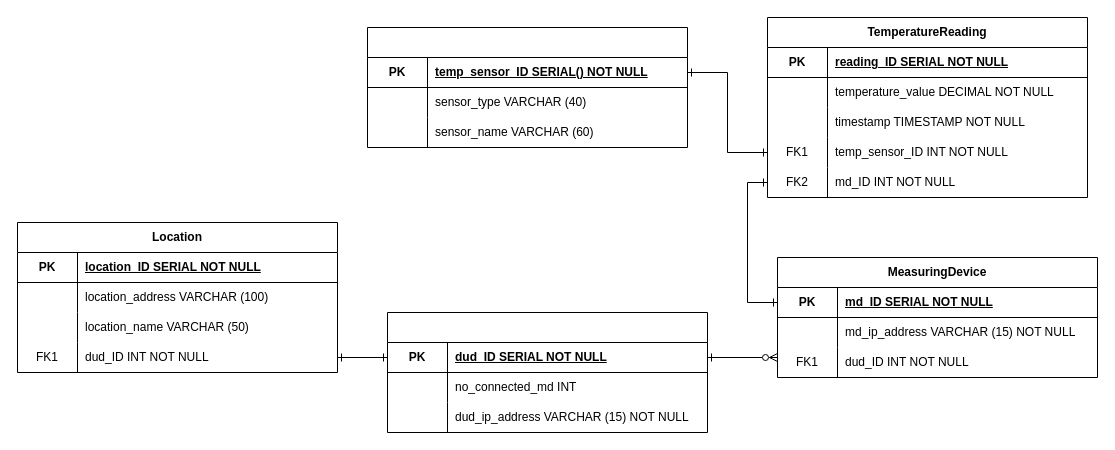
Image size: 1115x450. Some labels were removed from this diagram. Here are the shapes that lost their labels. From the top down, the box of each, then its label:
(366, 26, 688, 148): TemepratureSensor
(386, 312, 708, 432): DataUploaderDevice
